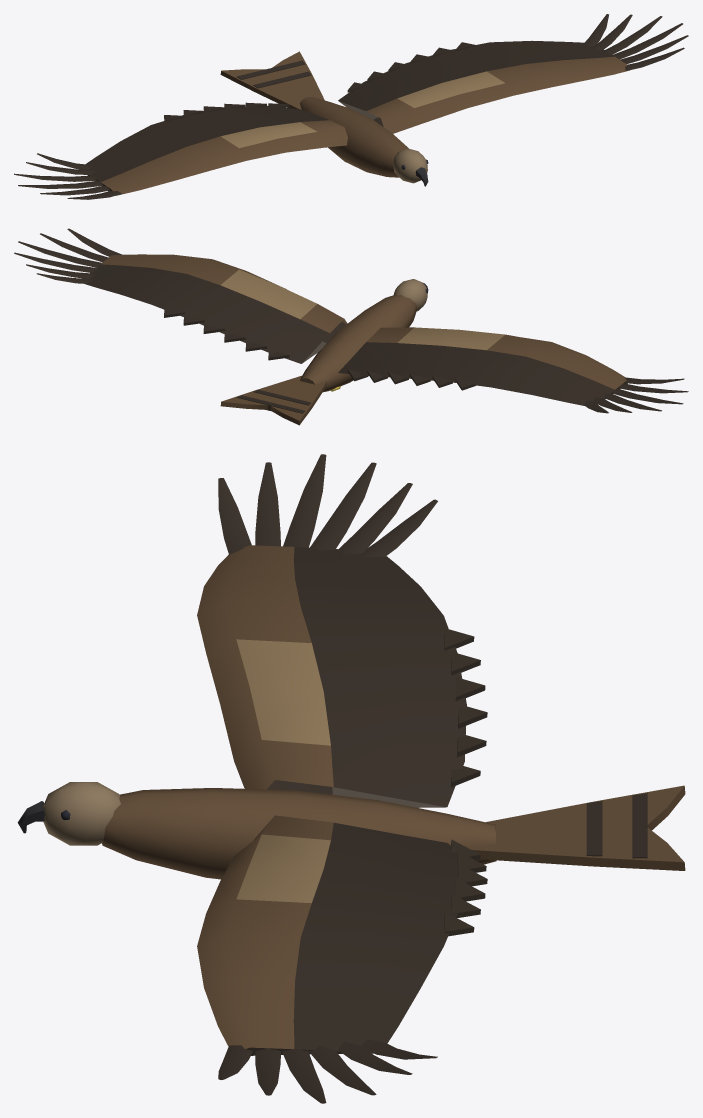
File: tonbi.glb
The picture shows the model from 3 angles, top to bottom: view 1: azimuth 30°, elevation 25°; view 2: azimuth 150°, elevation 25°; view 3: azimuth 270°, elevation 25°; orthographic projection. The views are drawn at different scales.
Parts seen in each view (by area): view 1: tonbi_wing_r, tonbi_wing_l, tonbi_body; view 2: tonbi_wing_r, tonbi_wing_l, tonbi_body; view 3: tonbi_wing_l, tonbi_wing_r, tonbi_body.
Part boxes in pixels (x1,y1,x2,y2): tonbi_wing_r: [338, 14, 688, 133]; tonbi_wing_l: [14, 102, 347, 199]; tonbi_body: [220, 51, 428, 186]; tonbi_wing_r: [14, 228, 347, 363]; tonbi_wing_l: [338, 327, 688, 413]; tonbi_body: [220, 279, 428, 425]; tonbi_wing_l: [197, 454, 487, 807]; tonbi_wing_r: [197, 815, 487, 1103]; tonbi_body: [17, 782, 685, 879].
Size of the model in its own units: 2.2 by 0.1785 by 0.9552.
